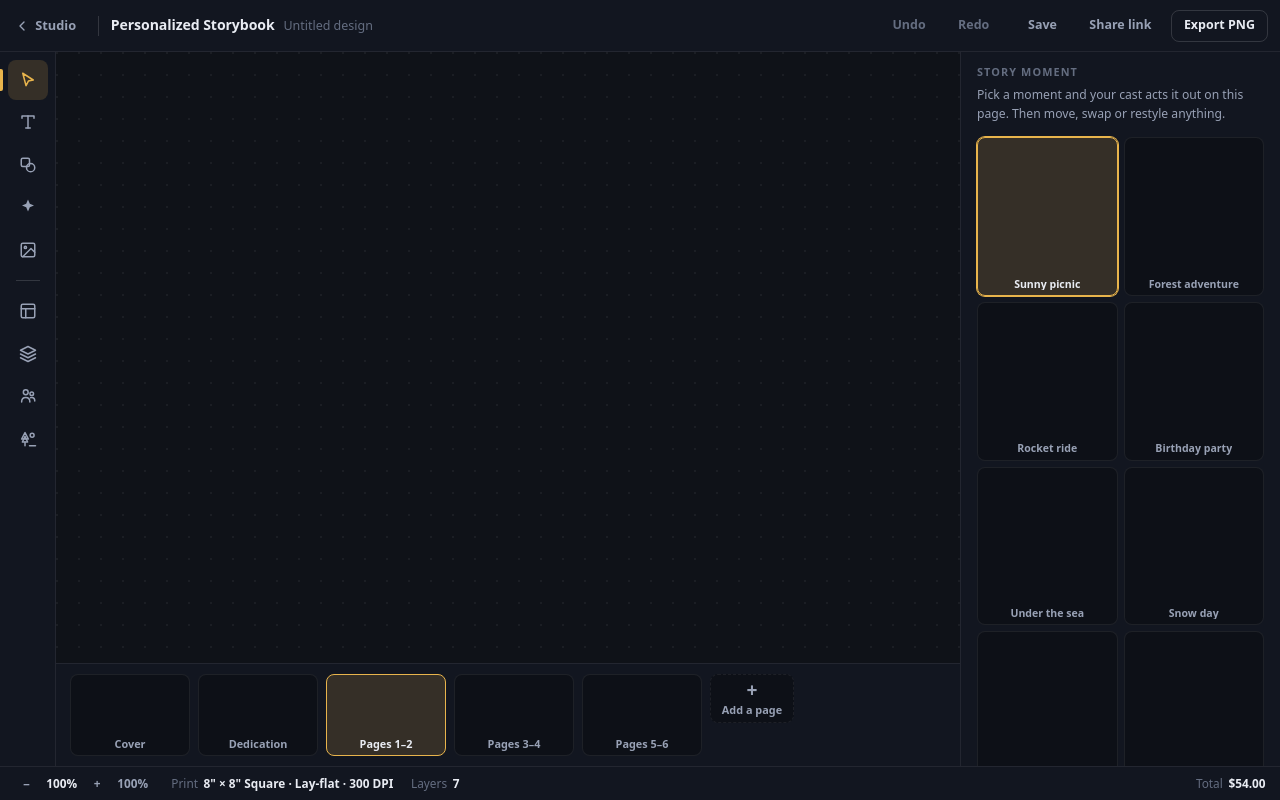
Test: book workbench › adds a layer to the artboard when a creation tool is picked
Step 1. Click the button named "Text (T)" → (28, 122), box [8,102,48,142]
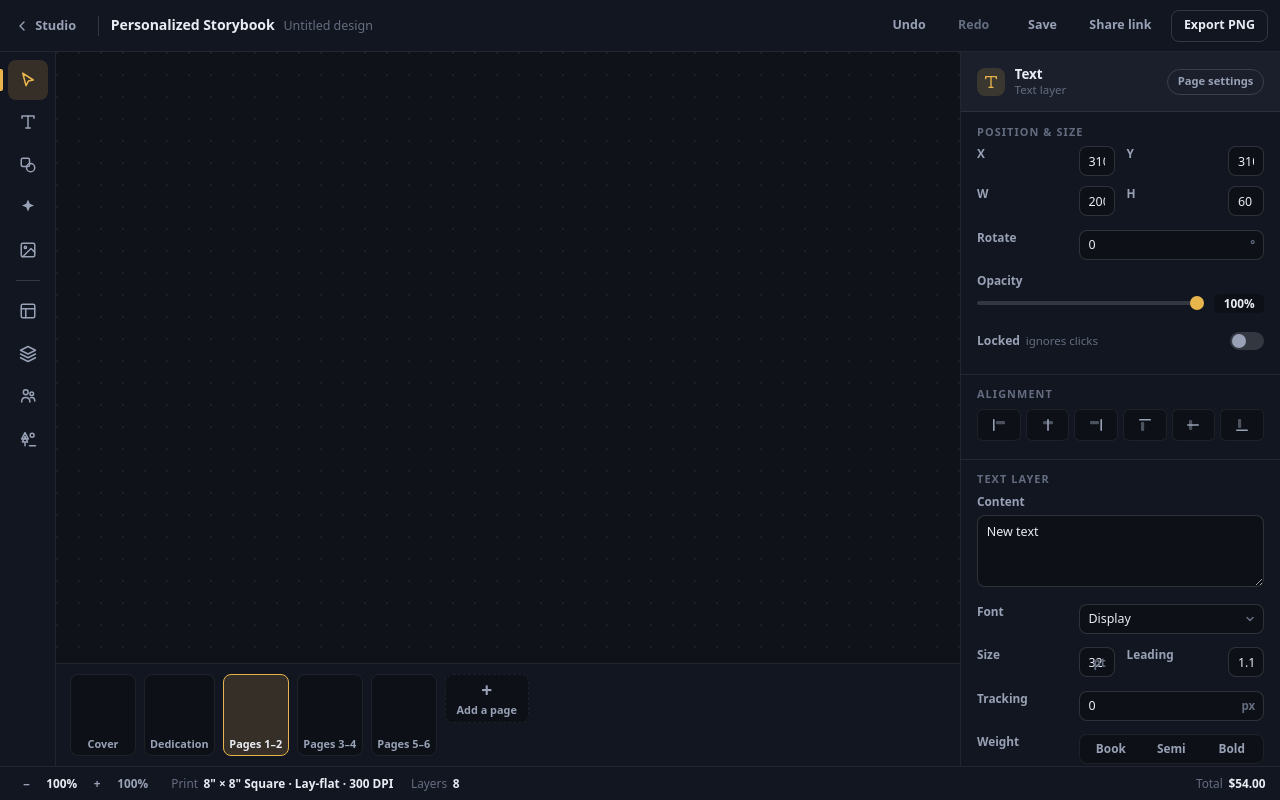
Result: the button "Undo" is enabled at [879,10,939,42]
